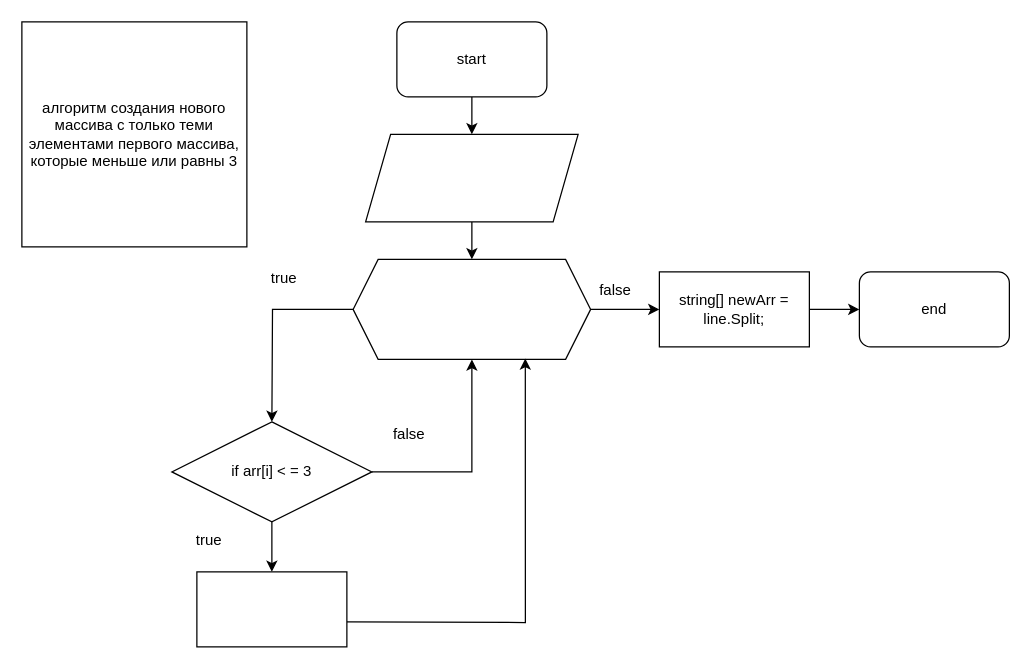
Some shapes in this 1031 by 669 pixel diagram are drawn without their labels. The shapes that lost their labels are listed below. From the top down, each one's box as (x1, y1, x2, y2) in pixels, then its label:
(364, 133, 578, 222): string arr[ ] ; sizeLimit = 3; string line = String.Empty;
(352, 258, 591, 359): for i=0; i< sizeLimit; i++;
(196, 571, 347, 647): line += arr[i];
